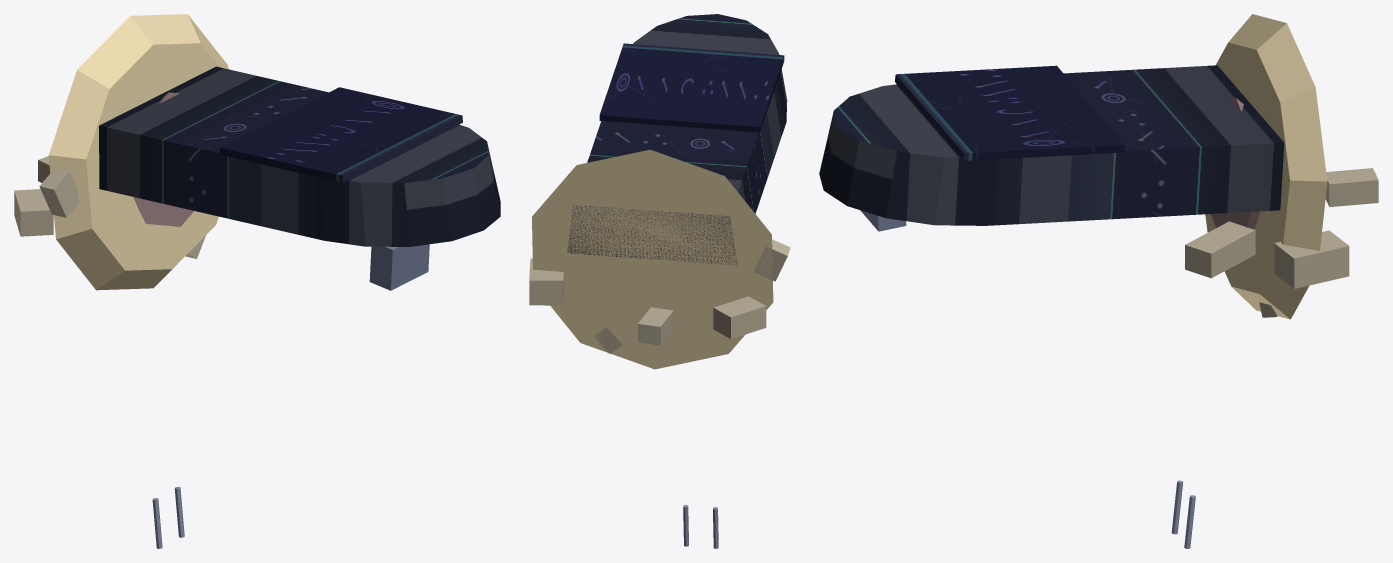
File: prp_monolith_fallen_a.glb
3 renders of one model, left to right at view 1: azimuth 30°, elevation 25°; view 2: azimuth 150°, elevation 25°; view 3: azimuth 270°, elevation 25°, orthographic. The views are drawn at different scales.
Visible parts, largest first — view 1: lod0__monolith_fallen_slab, lod0__monolith_fallen_foot, lod0__monolith_fallen_glyphs, lod0__monolith_fallen_patch, lod0__monolith_fallen_berm; view 2: lod0__monolith_fallen_foot, lod0__monolith_fallen_slab, lod0__monolith_fallen_glyphs, lod0__monolith_fallen_berm, lod0__monolith_fallen_patch; view 3: lod0__monolith_fallen_slab, lod0__monolith_fallen_foot, lod0__monolith_fallen_glyphs, lod0__monolith_fallen_berm, lod0__monolith_fallen_patch.
Part boxes in pixels (<box>): lod0__monolith_fallen_slab: <box>99,66,500,246</box>; lod0__monolith_fallen_foot: <box>39,14,228,290</box>; lod0__monolith_fallen_glyphs: <box>219,87,462,182</box>; lod0__monolith_fallen_patch: <box>152,244,429,548</box>; lod0__monolith_fallen_berm: <box>14,156,53,236</box>; lod0__monolith_fallen_foot: <box>532,149,790,369</box>; lod0__monolith_fallen_slab: <box>567,14,787,265</box>; lod0__monolith_fallen_glyphs: <box>599,43,784,132</box>; lod0__monolith_fallen_berm: <box>529,258,766,345</box>; lod0__monolith_fallen_patch: <box>683,505,718,548</box>; lod0__monolith_fallen_slab: <box>819,65,1284,225</box>; lod0__monolith_fallen_foot: <box>1205,14,1327,319</box>; lod0__monolith_fallen_glyphs: <box>895,65,1125,160</box>; lod0__monolith_fallen_berm: <box>1185,168,1378,288</box>; lod0__monolith_fallen_patch: <box>860,210,1195,548</box>.
Size of the model in its own units: 1.84 by 2.75 by 2.67.
4 materials, 2 textured.
